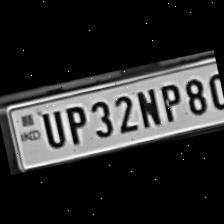0: (201, 69, 223, 113)
2: (108, 88, 139, 135)
3: (83, 95, 115, 141)
8: (176, 70, 210, 118)
N: (130, 83, 162, 130)
P: (58, 100, 91, 146), (154, 78, 184, 124)
U: (34, 105, 68, 151)
